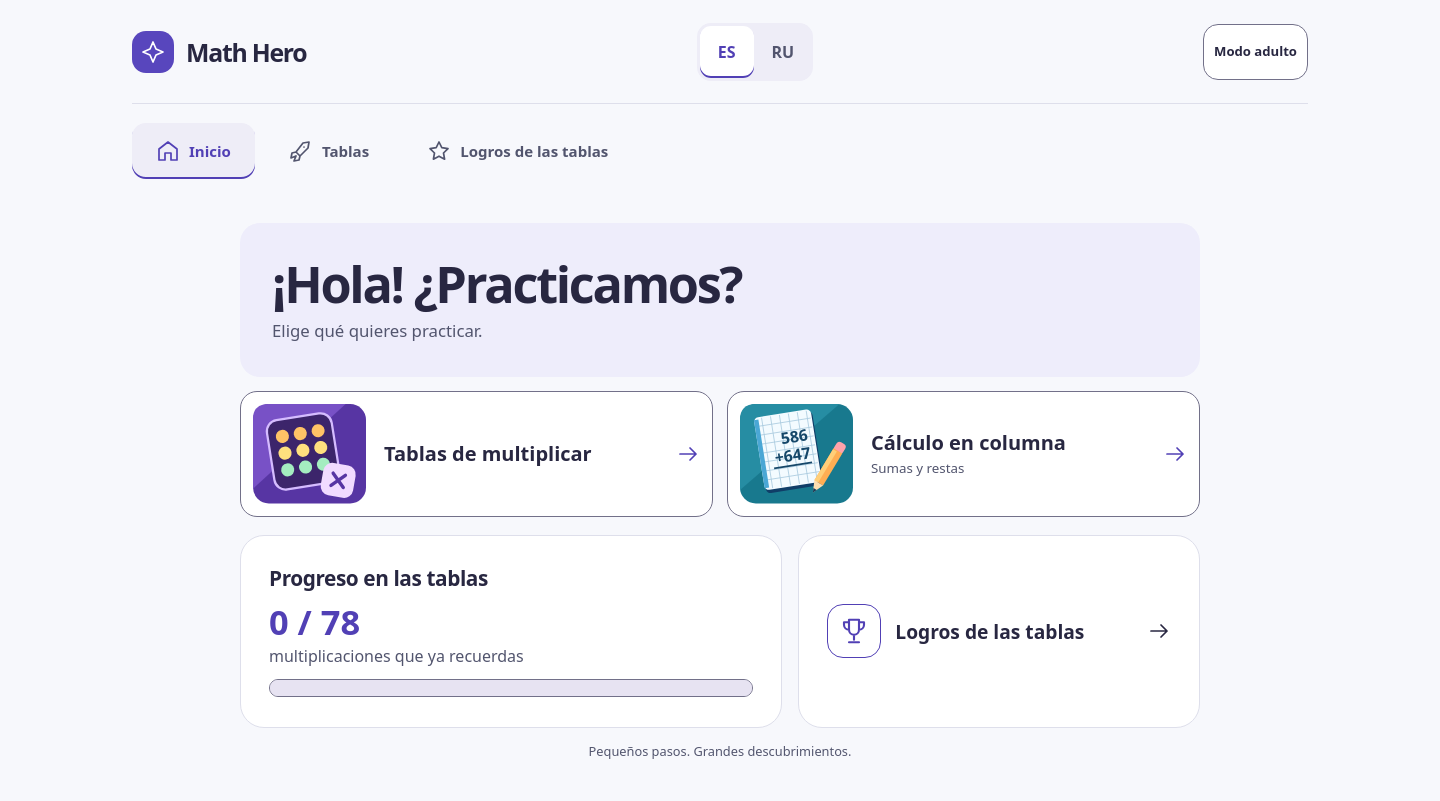
Scenario: foundation › starts in Spanish, switches all navigation and document language
Expected: the heading "¡Hola! ¿Practicamos?" is shown, [272,255,802,314]
Click the button with aria-label "Русский".
click(783, 52)  # box [756,26,810,78]
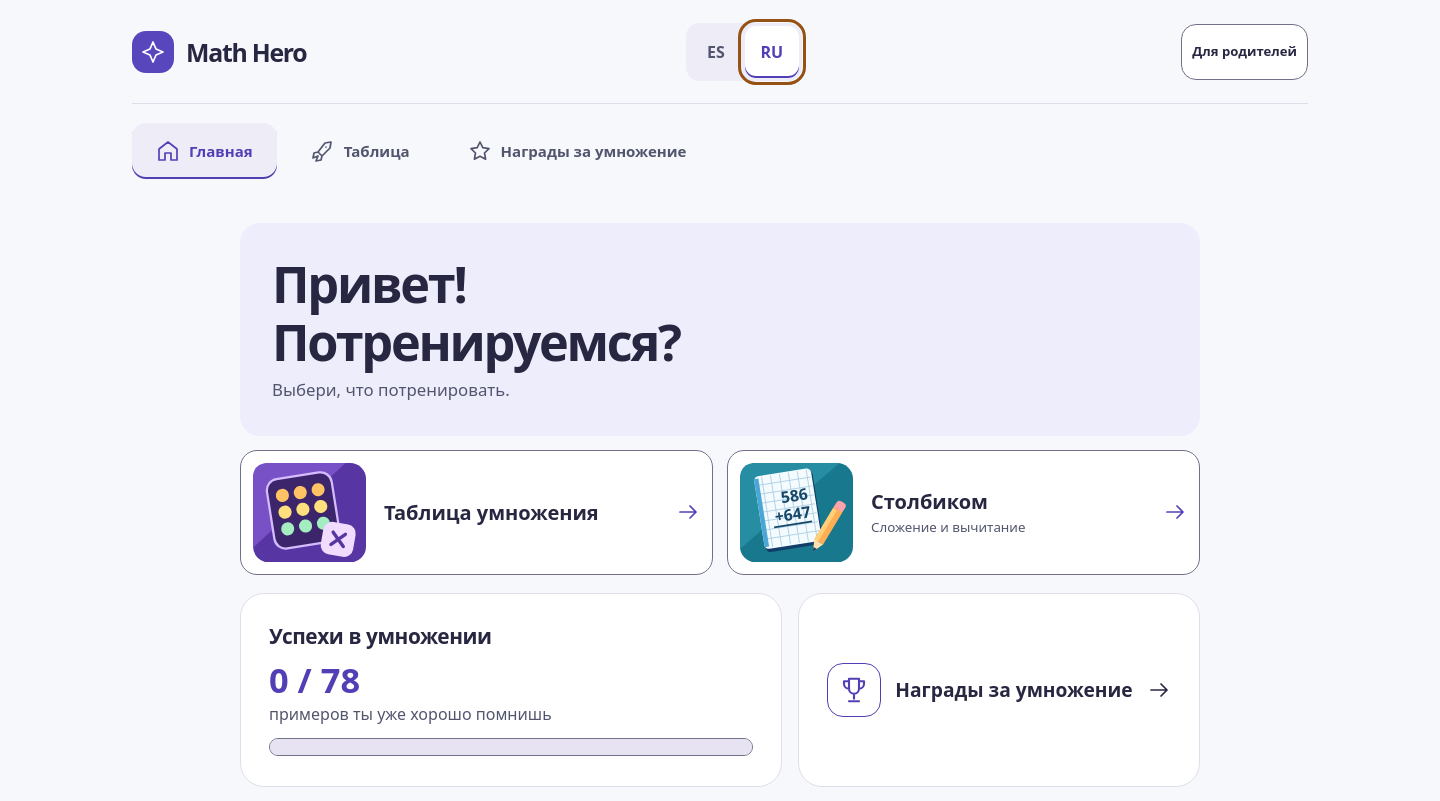
Expected: the link "Таблица" is shown, [311,139,410,163]
Expected: the heading "Привет! Потренируемся?" is shown, [272,249,680,376]
